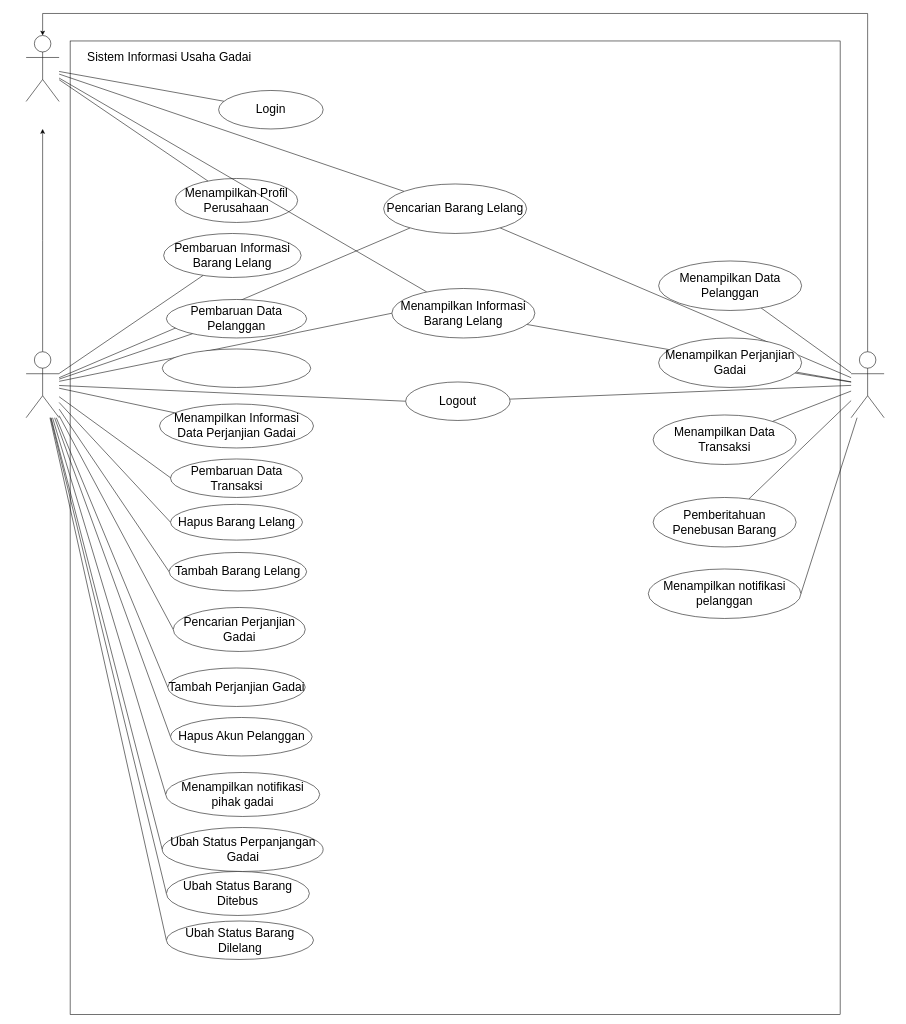
Some shapes in this 906 by 1024 pixel diagram are drawn without their labels. Each missing label, with the centre of its shape:
"Pelanggan" goes at point 867,384.
"Pemberitahuan Jatuh Tempo" goes at point 236,367.
"Pengguna" goes at point 42,68.
"Pihak Gadai" goes at point 42,384.
